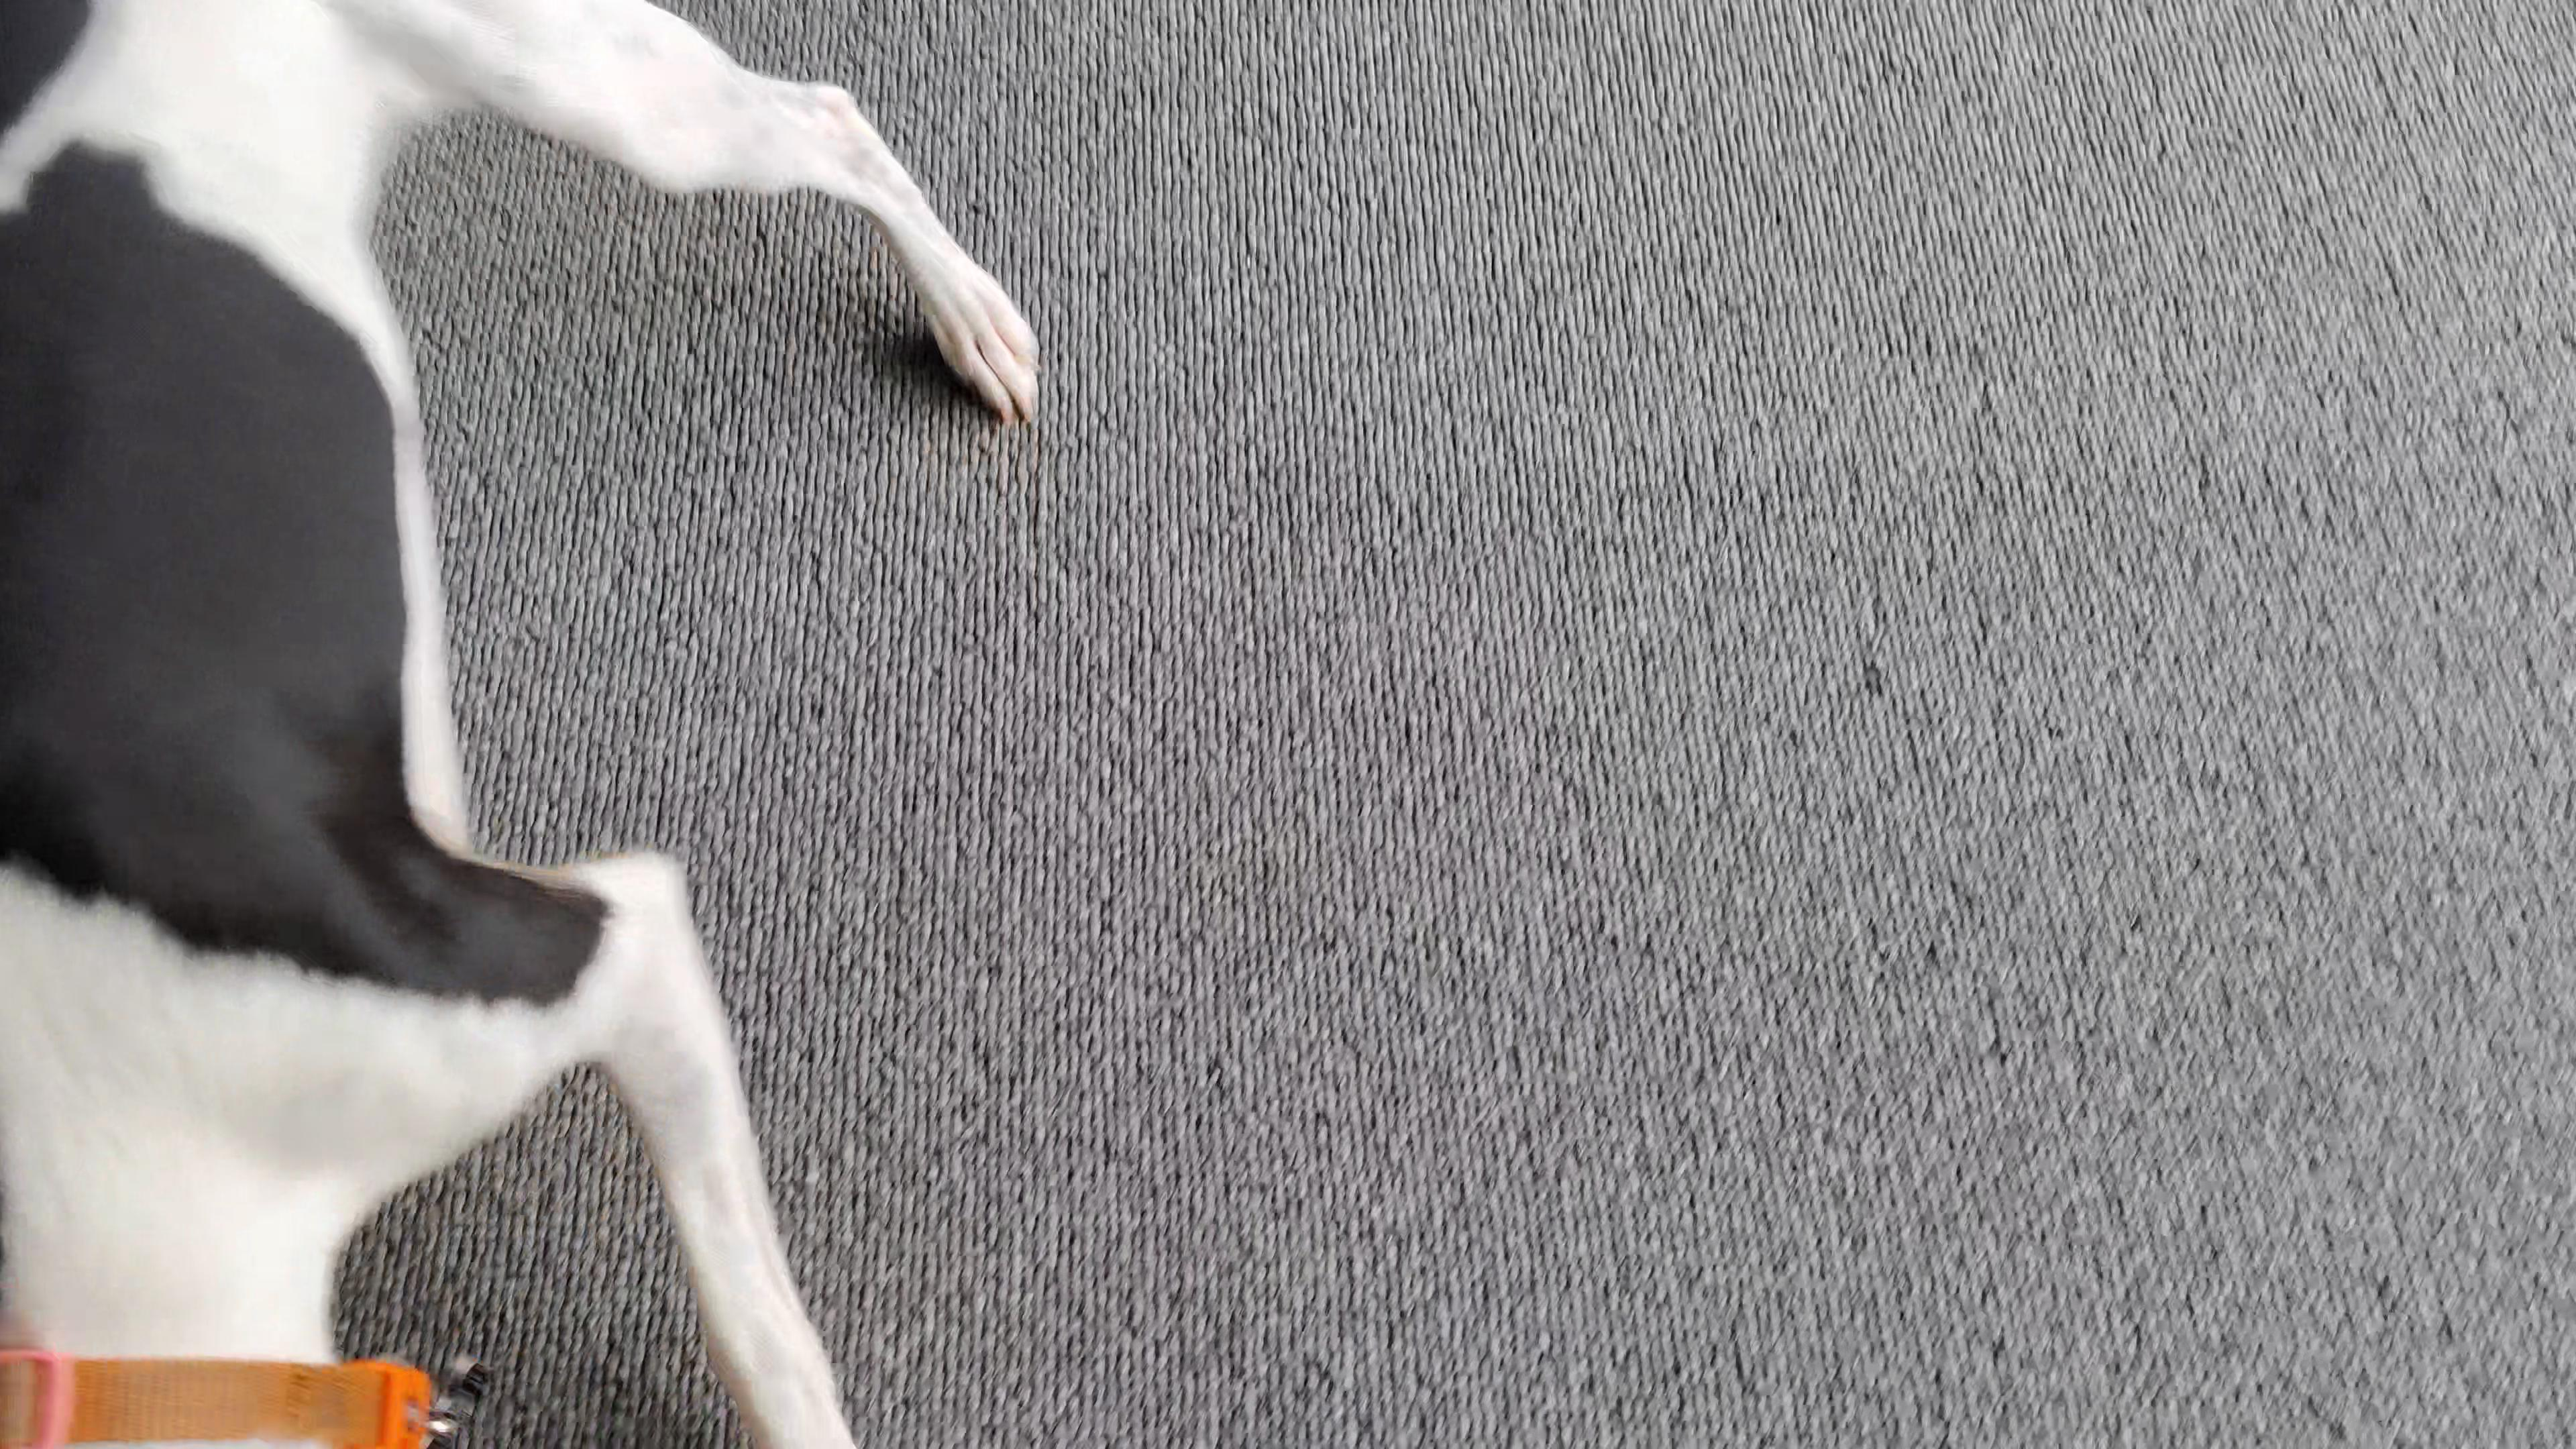Dog: (0, 0, 1069, 1449)
